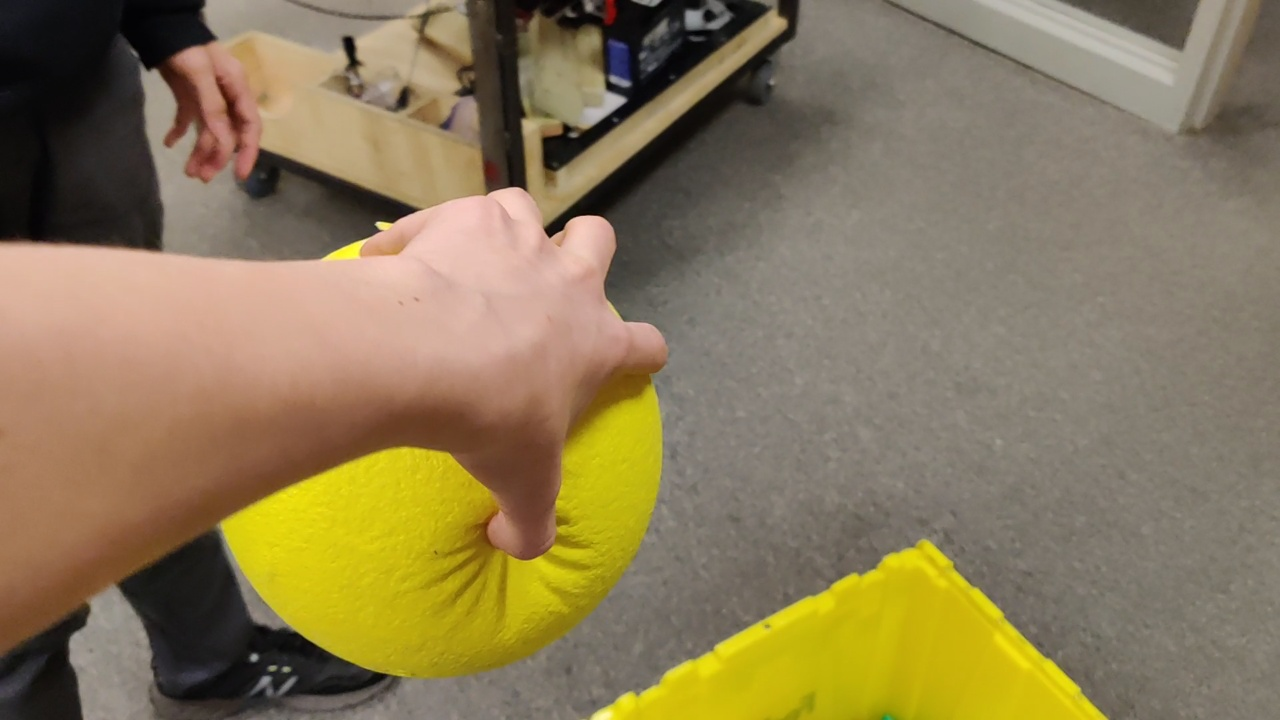Ball: (221, 526, 670, 654)
